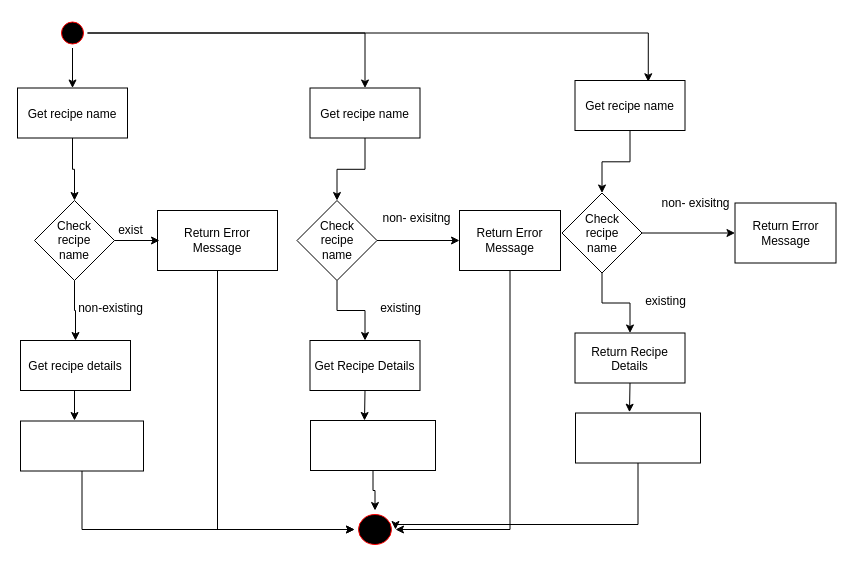
The diagram is 854 pixels wide and 566 high, and some of its shapes have lost their labels. The shapes that lost their labels are listed below. From the top down, each one's box as (x1, y1, x2, y2) in pixels, then its label:
(20, 420, 144, 471): Add Recipe Return Recipe Name
(310, 420, 436, 470): Edit Recipe Return Recipe Name
(574, 412, 700, 463): Return Recipe Name Delete Recipe
